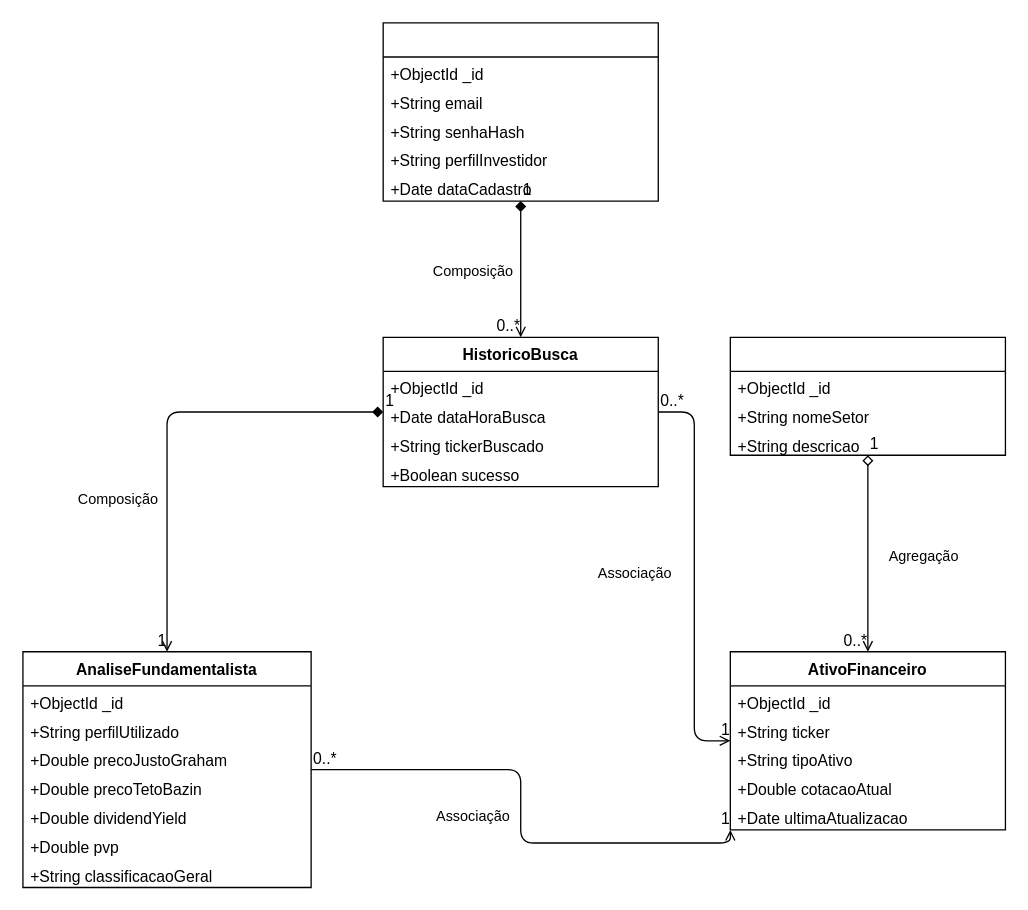
Some shapes in this 1028 by 910 pixel diagram are drawn without their labels. The box of each missing label's shape, as (x1, y1, x2, y2) in pixels:
SetorAtivo: (729, 336, 1005, 455)
Usuario: (382, 22, 658, 201)
